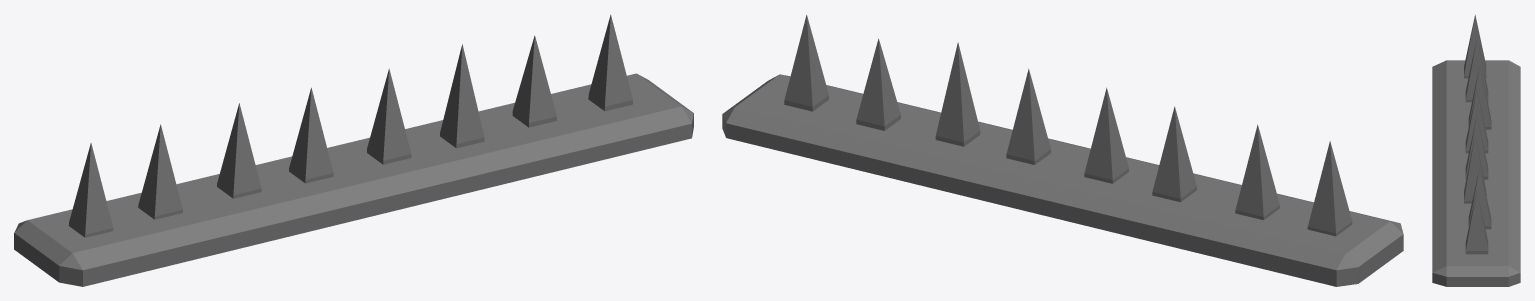
File: SMLStoneSpikeTrap.fbx
3 views of the same model, side by side, from view 1: azimuth 30°, elevation 25°; view 2: azimuth 150°, elevation 25°; view 3: azimuth 270°, elevation 25° (orthographic). The views are drawn at different scales.
Visible parts, largest first — view 1: SMLStoneSpikeTrap; view 2: SMLStoneSpikeTrap; view 3: SMLStoneSpikeTrap.
Part boxes in pixels (x1=…): SMLStoneSpikeTrap: x1=14, y1=14, x2=693, y2=286; SMLStoneSpikeTrap: x1=722, y1=14, x2=1403, y2=286; SMLStoneSpikeTrap: x1=1432, y1=14, x2=1520, y2=286.
Bounding box in the file's own units: 86.17 × 15.63 × 15.07.
